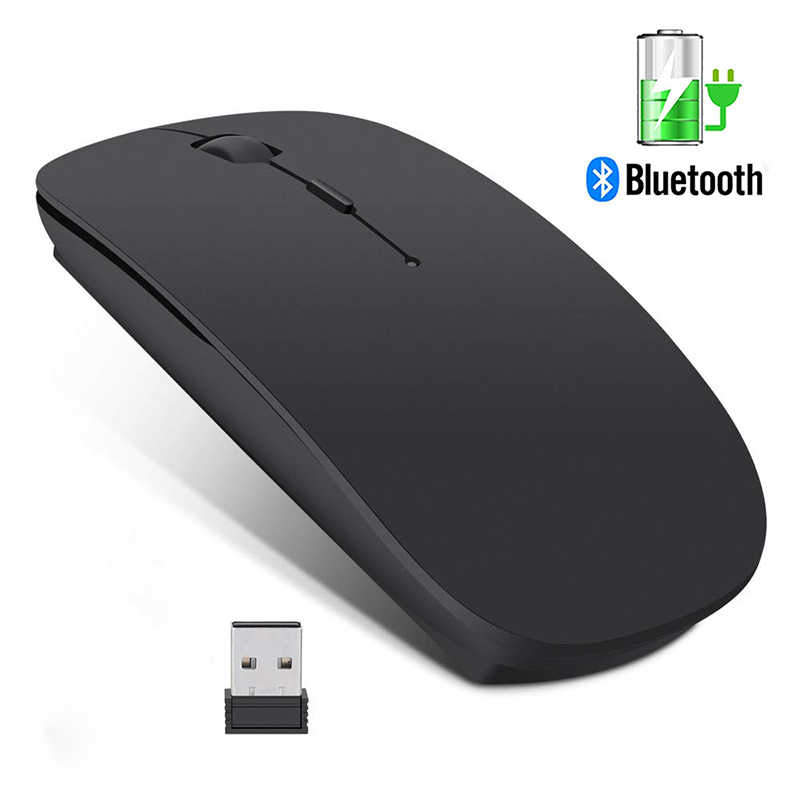Mouse: (33, 103, 777, 698)
